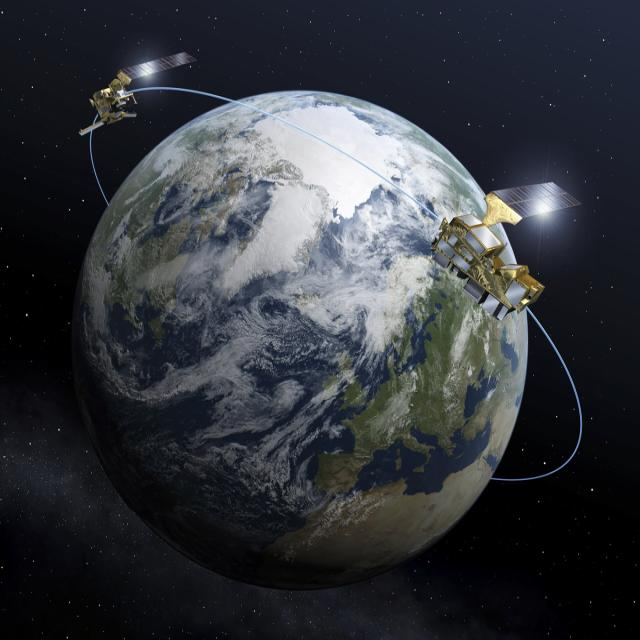medium_debris: (427, 182, 579, 326), (82, 51, 180, 129)
